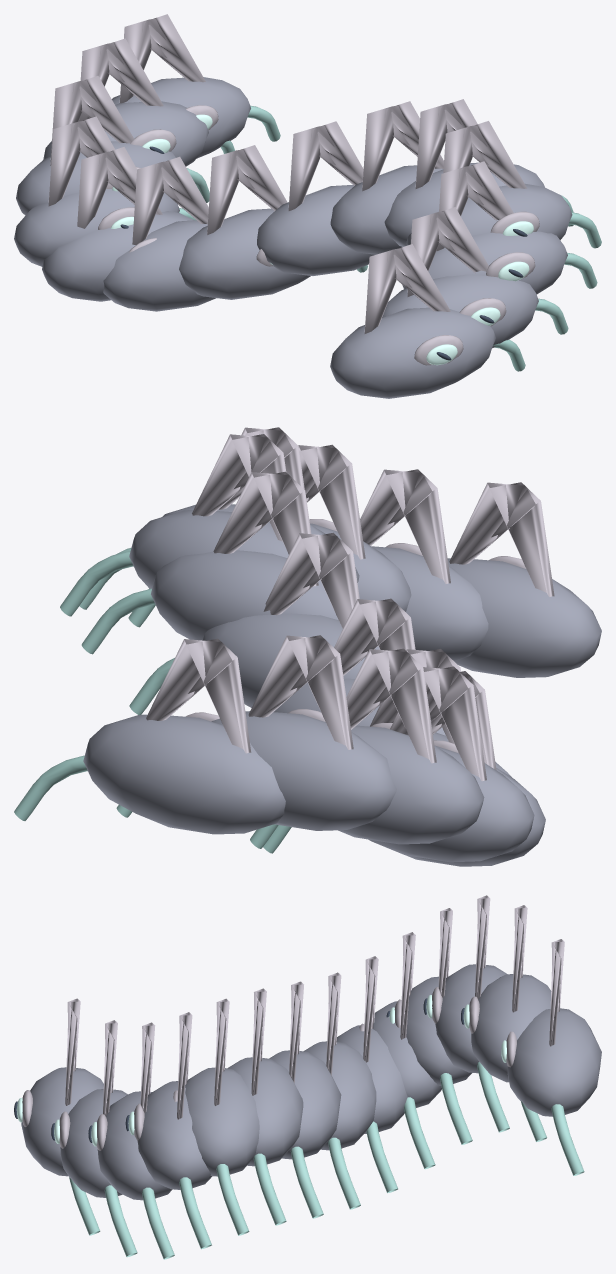
The model's file is bio_ribbon_colony_06_far.glb.
3 renders of one model, top to bottom at view 1: azimuth 30°, elevation 25°; view 2: azimuth 150°, elevation 25°; view 3: azimuth 270°, elevation 25°, orthographic. The views are drawn at different scales.
Parts seen in each view (by area): view 1: Overlapping folded ribbon, Overlapping folded ribbon.007, Overlapping folded ribbon.006, Overlapping folded ribbon.008, Overlapping folded ribbon.009, Overlapping folded ribbon.005, Raised pleated edge, Overlapping folded ribbon.001, Overlapping folded ribbon.010, Overlapping folded ribbon.002, Overlapping folded ribbon.013, Raised pleated edge.007 (+20 smaller); view 2: Overlapping folded ribbon.013, Overlapping folded ribbon.012, Overlapping folded ribbon, Overlapping folded ribbon.005, Overlapping folded ribbon.011, Overlapping folded ribbon.001, Raised pleated edge, Raised pleated edge.012, Raised pleated edge.013, Overlapping folded ribbon.010, Raised pleated edge.001, Raised pleated edge.011 (+18 smaller); view 3: Overlapping folded ribbon.013, Overlapping folded ribbon.004, Overlapping folded ribbon.003, Overlapping folded ribbon.012, Overlapping folded ribbon.005, Overlapping folded ribbon, Overlapping folded ribbon.006, Overlapping folded ribbon.007, Overlapping folded ribbon.002, Overlapping folded ribbon.001, Overlapping folded ribbon.011, Overlapping folded ribbon.008 (+29 smaller).
Part boxes in pixels (x1,y1,x2,y2): Overlapping folded ribbon: [330, 307, 495, 398]; Overlapping folded ribbon.007: [179, 208, 310, 299]; Overlapping folded ribbon.006: [257, 185, 375, 275]; Overlapping folded ribbon.008: [103, 220, 216, 311]; Overlapping folded ribbon.009: [42, 211, 193, 301]; Overlapping folded ribbon.005: [330, 165, 443, 254]; Raised pleated edge: [364, 244, 463, 365]; Overlapping folded ribbon.001: [382, 274, 538, 348]; Overlapping folded ribbon.010: [14, 189, 179, 266]; Overlapping folded ribbon.002: [402, 231, 567, 294]; Overlapping folded ribbon.013: [112, 77, 250, 158]; Raised pleated edge.007: [207, 145, 287, 266]; Overlapping folded ribbon.013: [83, 714, 285, 834]; Overlapping folded ribbon.012: [211, 711, 396, 830]; Overlapping folded ribbon: [447, 558, 601, 677]; Overlapping folded ribbon.005: [151, 550, 338, 640]; Overlapping folded ribbon.011: [338, 725, 484, 844]; Overlapping folded ribbon.001: [372, 546, 488, 660]; Raised pleated edge: [449, 482, 554, 596]; Raised pleated edge.012: [248, 635, 353, 749]; Raised pleated edge.013: [146, 638, 251, 753]; Overlapping folded ribbon.010: [368, 746, 534, 862]; Raised pleated edge.001: [360, 469, 450, 583]; Raised pleated edge.011: [346, 648, 436, 763]; Overlapping folded ribbon.013: [507, 1008, 601, 1116]; Overlapping folded ribbon.004: [185, 1067, 259, 1176]; Overlapping folded ribbon.003: [137, 1081, 212, 1189]; Overlapping folded ribbon.012: [471, 974, 551, 1082]; Overlapping folded ribbon.005: [228, 1057, 303, 1166]; Overlapping folded ribbon: [21, 1067, 103, 1176]; Overlapping folded ribbon.006: [269, 1050, 341, 1159]; Overlapping folded ribbon.007: [304, 1041, 376, 1150]; Overlapping folded ribbon.002: [97, 1091, 172, 1200]; Overlapping folded ribbon.001: [60, 1089, 127, 1197]; Overlapping folded ribbon.011: [435, 964, 507, 1073]; Overlapping folded ribbon.008: [336, 1025, 407, 1133].
Bounding box in the file's own units: 2.81 × 1.3 × 3.04.
